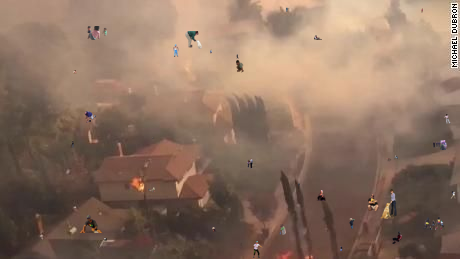Human: (380, 189, 397, 219), (233, 241, 263, 258), (79, 214, 103, 233), (84, 26, 107, 40), (185, 31, 202, 49), (423, 217, 445, 230), (367, 194, 379, 211), (236, 60, 249, 75), (84, 111, 96, 123), (433, 140, 447, 150), (392, 231, 402, 244), (316, 190, 326, 201), (386, 155, 398, 164), (69, 140, 81, 149), (450, 190, 459, 199), (443, 114, 451, 124), (173, 44, 179, 57), (279, 224, 286, 235), (349, 218, 355, 230), (247, 158, 253, 169), (145, 187, 156, 192), (314, 35, 322, 40), (232, 54, 239, 59), (212, 227, 217, 232), (73, 70, 77, 74), (340, 246, 343, 251), (104, 238, 107, 242), (298, 183, 300, 189), (286, 7, 288, 12), (210, 49, 212, 54), (421, 8, 423, 13), (152, 136, 155, 139)
